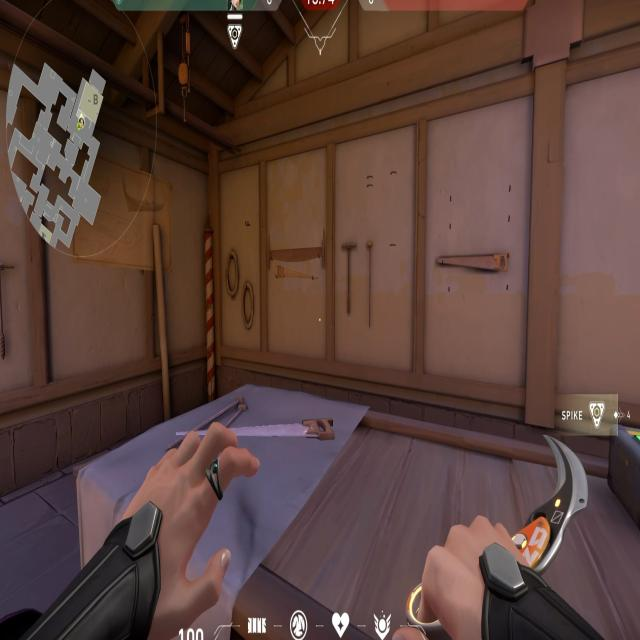B_Garage_Left: (38, 104, 377, 517)
